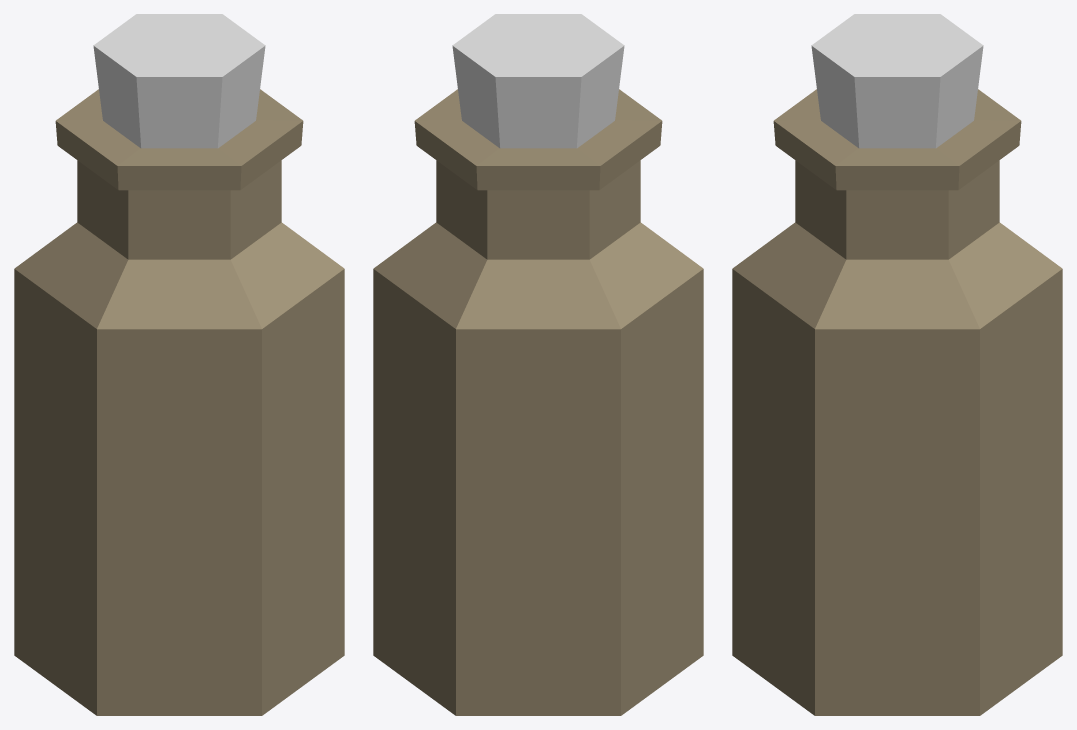
File: butilka.fbx
3 renders of one model, left to right at view 1: azimuth 30°, elevation 25°; view 2: azimuth 150°, elevation 25°; view 3: azimuth 270°, elevation 25°, orthographic.
Parts seen in each view (by area): view 1: Circle.001, Cylinder; view 2: Circle.001, Cylinder; view 3: Circle.001, Cylinder.
Part boxes in pixels (box(x1,y1,x2,y2)): Circle.001: box(14, 89, 344, 715); Cylinder: box(93, 14, 265, 148); Circle.001: box(373, 89, 703, 715); Cylinder: box(452, 14, 624, 148); Circle.001: box(732, 89, 1062, 715); Cylinder: box(811, 14, 983, 148).
Bounding box in the file's own units: 0.097 × 0.2282 × 0.112.
